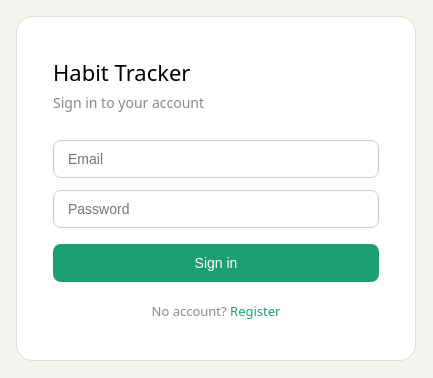
Test case: AuthPage › shows loading state during submission
The width and height of the screenshot is (433, 378).
In the field with placeholder "Email": (216, 158) [53,140,379,178], type "test@test.com"
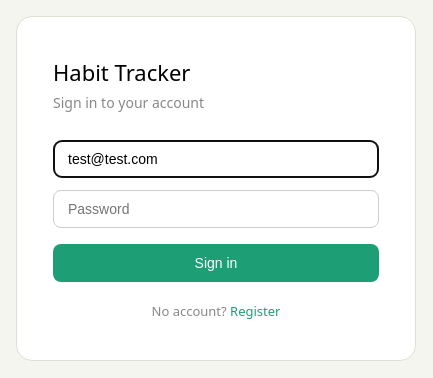
In the password field with placeholder "Password": (216, 208) [53,190,379,228], type "pass"
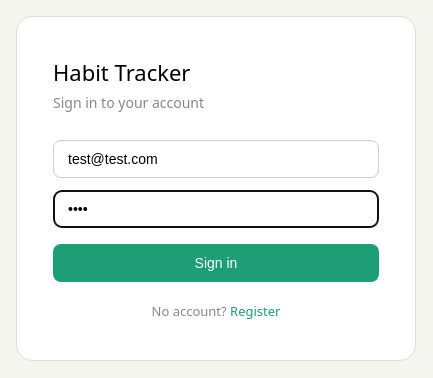
Click the button "Sign in": (216, 262) [53,244,379,282]
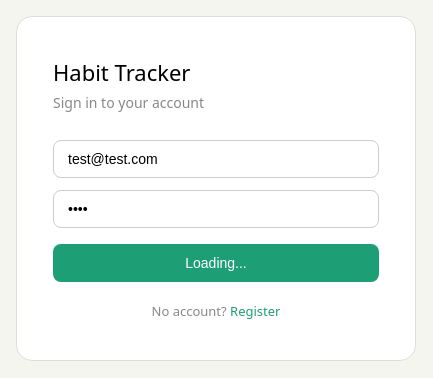
Expected: the button "Loading..." is disabled, [53,244,379,282]
